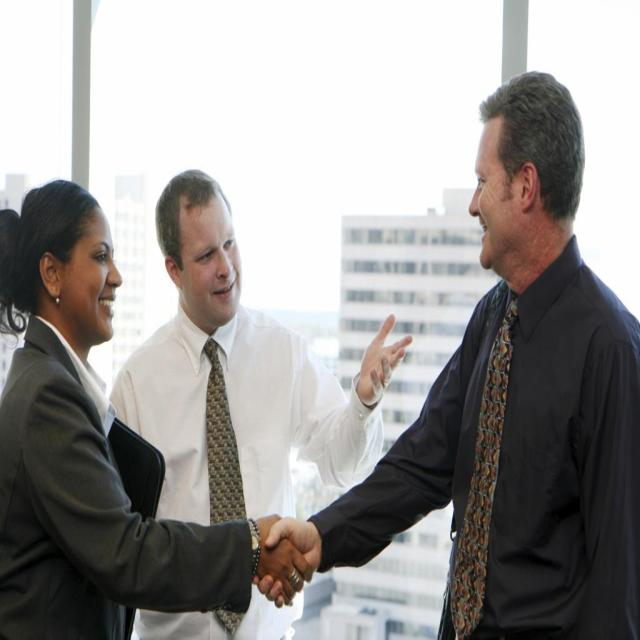Face: (40, 198, 123, 357), (168, 194, 250, 336), (467, 114, 522, 284)
